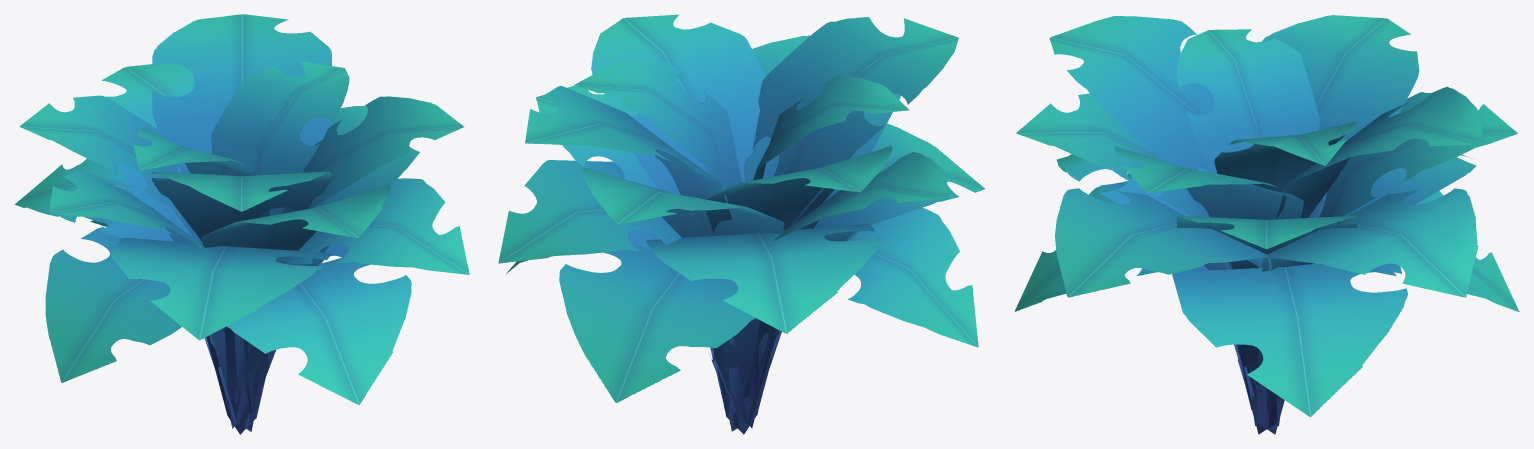
File: BushV1.fbx
3 renders of one model, left to right at view 1: azimuth 30°, elevation 25°; view 2: azimuth 150°, elevation 25°; view 3: azimuth 270°, elevation 25°, orthographic. The views are drawn at different scales.
Parts seen in each view (by area): view 1: Bush; view 2: Bush; view 3: Bush.
Boxes of the visible parts, x1,y1,x2,y2 form: Bush: [14, 14, 469, 434]; Bush: [498, 14, 984, 434]; Bush: [1014, 15, 1519, 434].
Bounding box in the file's own units: 2.68 × 2.09 × 2.72.
Materials: 1 (1 with a texture image).
